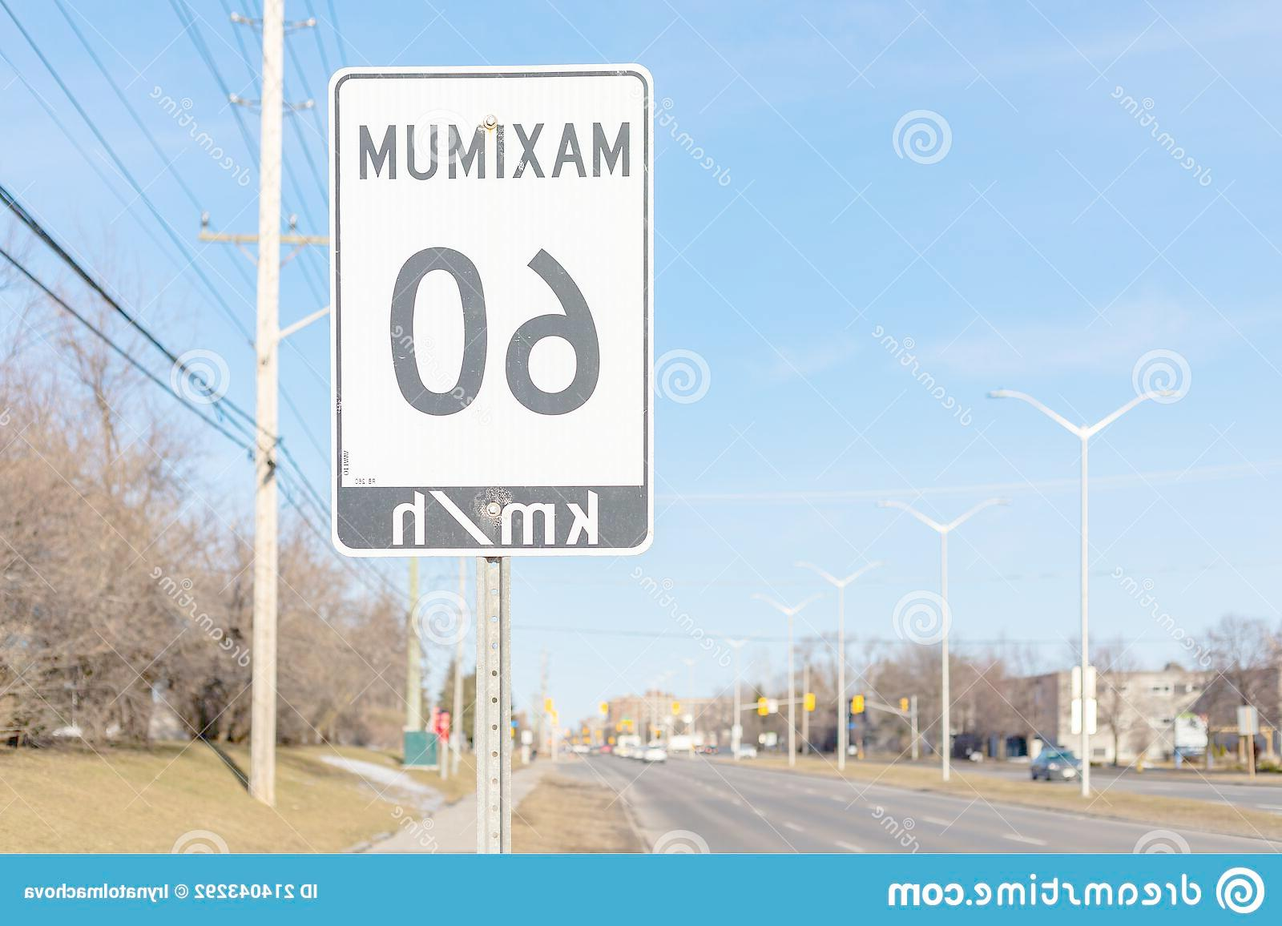speed limit sign: (327, 67, 659, 558)
